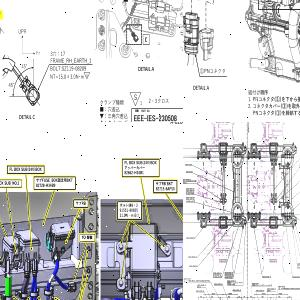PartNumber: (62, 65, 87, 71), (124, 169, 144, 176), (36, 182, 56, 188), (119, 207, 138, 213), (155, 186, 175, 191), (232, 289, 240, 291), (292, 276, 300, 278), (224, 275, 232, 277), (224, 274, 232, 276), (183, 278, 190, 280), (197, 284, 204, 286), (196, 290, 203, 292), (214, 283, 221, 285), (227, 280, 234, 282), (251, 282, 258, 284), (256, 290, 263, 292), (267, 288, 274, 290), (278, 286, 285, 288), (185, 164, 192, 166), (186, 171, 193, 173), (186, 191, 193, 193), (186, 198, 193, 200), (186, 237, 193, 239), (188, 256, 195, 258), (189, 265, 196, 267), (213, 272, 220, 274), (263, 276, 269, 278), (183, 180, 189, 182), (183, 178, 189, 180), (186, 188, 192, 190), (213, 274, 219, 276), (224, 272, 232, 273), (186, 190, 193, 191), (186, 197, 193, 198), (297, 264, 300, 266), (297, 262, 300, 264)
